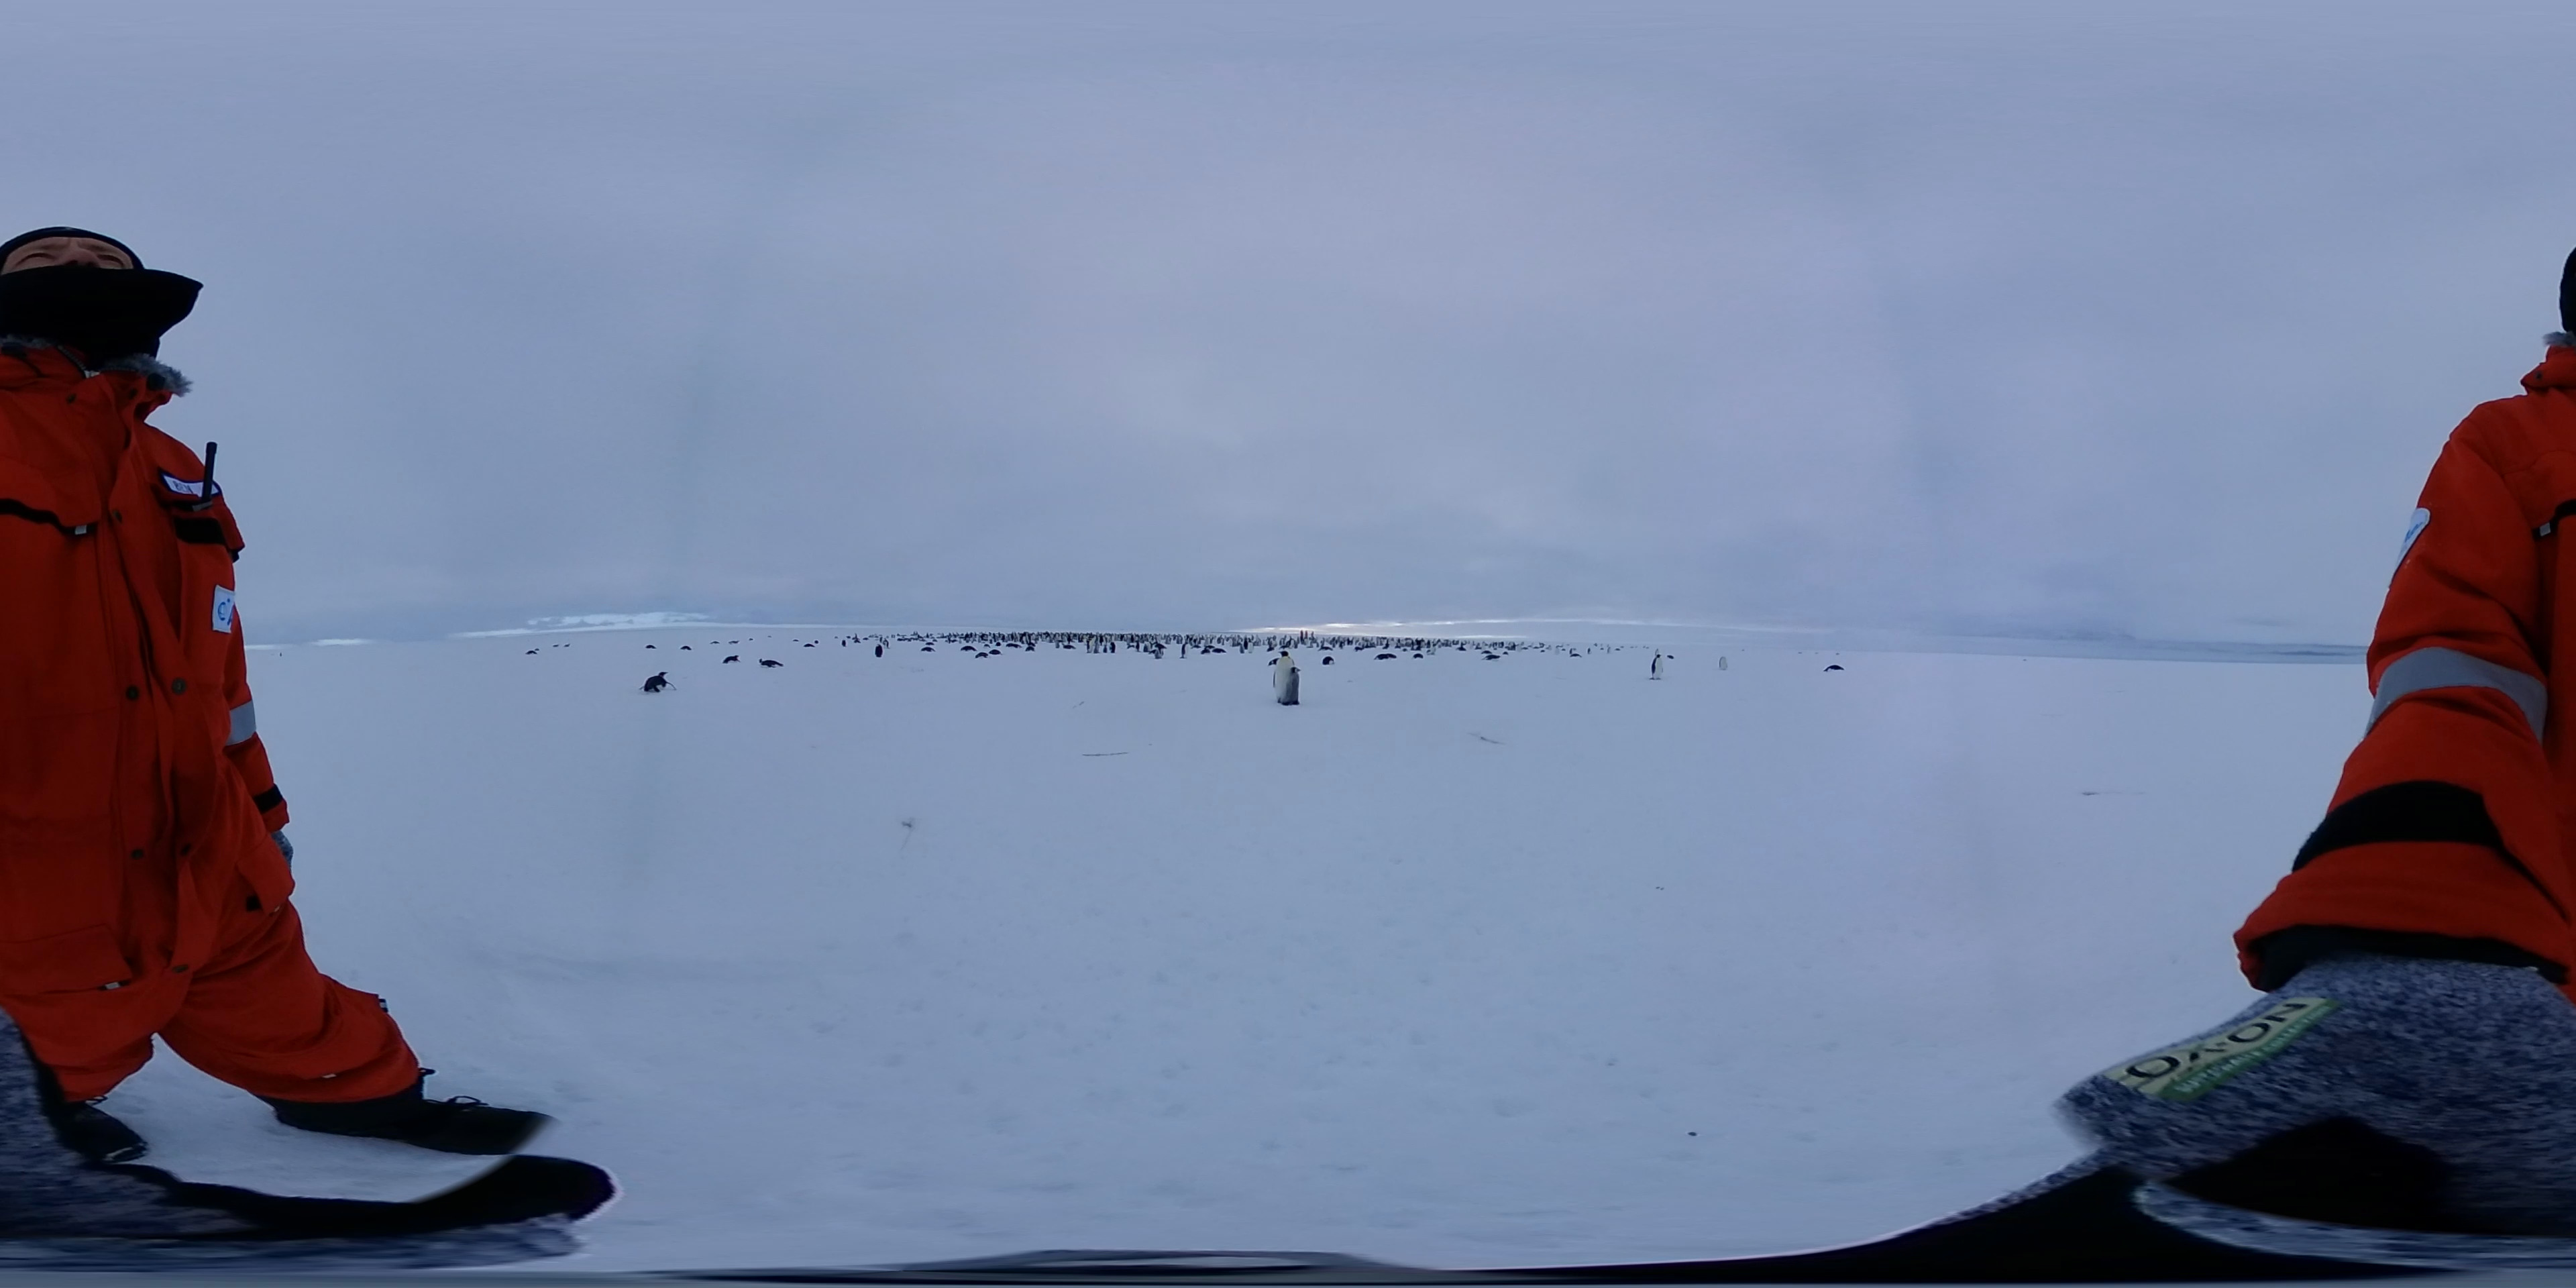adult_standing_penguin: (1275, 651, 1295, 706), (1649, 652, 1667, 682)
adult_toboggan_penguin: (637, 670, 678, 695), (756, 655, 784, 670), (1822, 664, 1848, 675), (1483, 651, 1505, 662), (723, 655, 741, 662)
juvenile_penguin: (1283, 665, 1303, 710)
researcher: (7, 212, 419, 1194)
